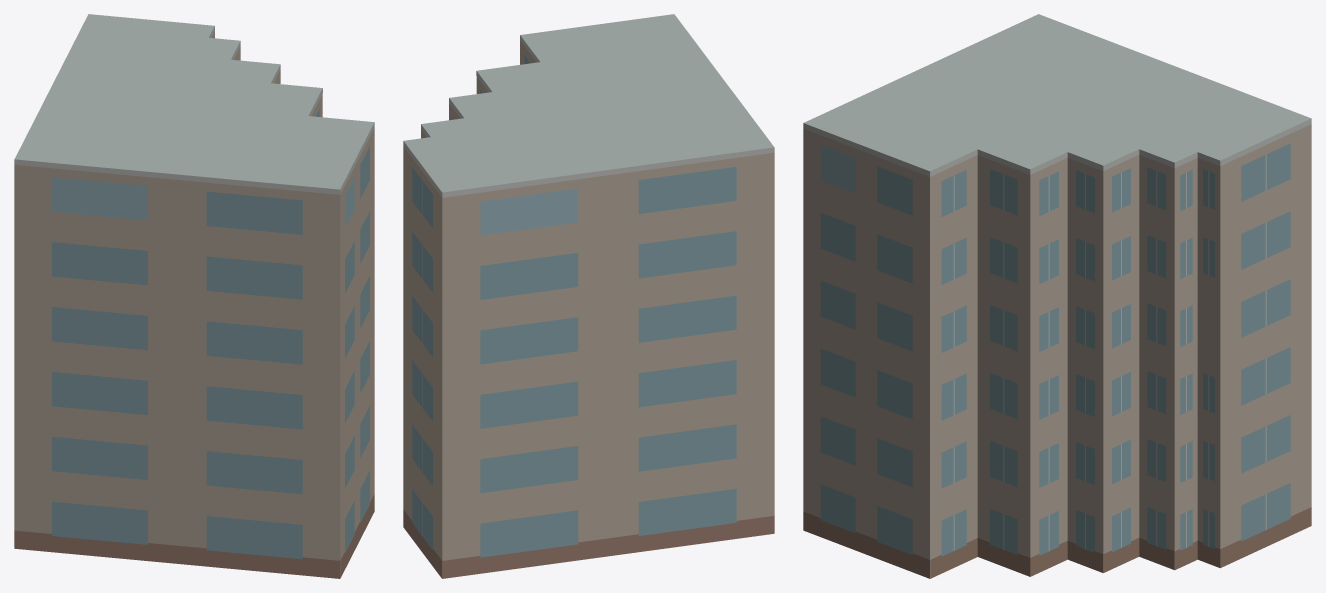
The model's file is survey-upis-33001233.glb.
3 views of the same model, side by side, from view 1: azimuth 30°, elevation 25°; view 2: azimuth 150°, elevation 25°; view 3: azimuth 270°, elevation 25° (orthographic). The views are drawn at different scales.
Parts seen in each view (by area): view 1: survey-upis-33001233.tmp; view 2: survey-upis-33001233.tmp; view 3: survey-upis-33001233.tmp.
Part boxes in pixels (box(x1,y1,x2,y2)): survey-upis-33001233.tmp: box(14, 14, 374, 578); survey-upis-33001233.tmp: box(403, 14, 774, 578); survey-upis-33001233.tmp: box(803, 14, 1311, 578).
Size of the model in its own units: 14.76 by 17.8 by 20.13.
